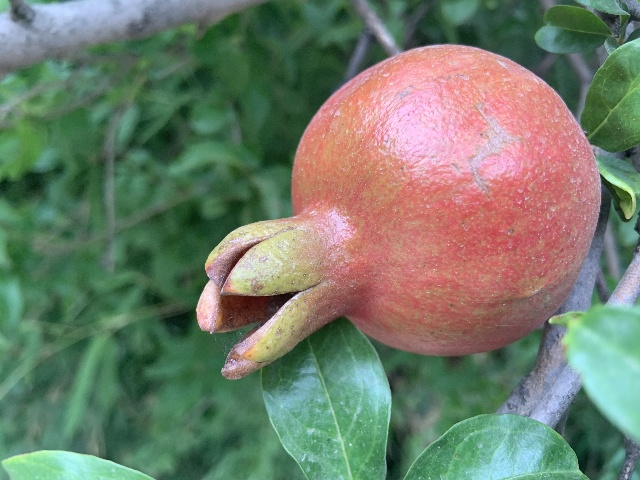ripe: (196, 43, 601, 381)
